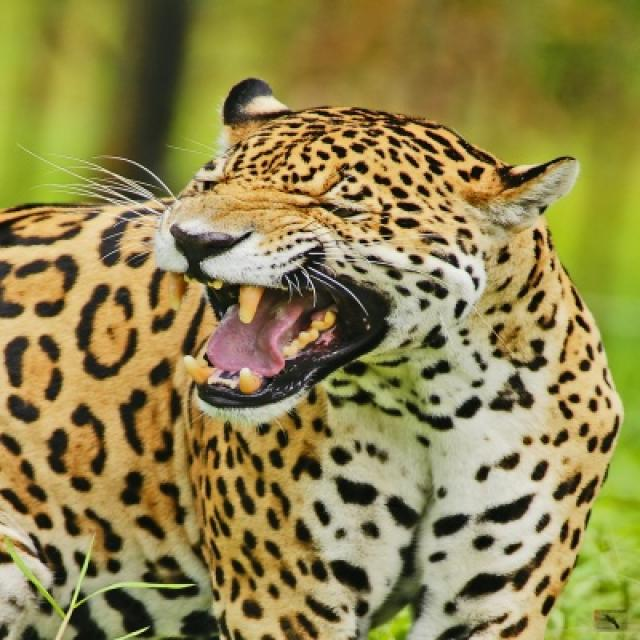Jaguar: (0, 78, 624, 638)
